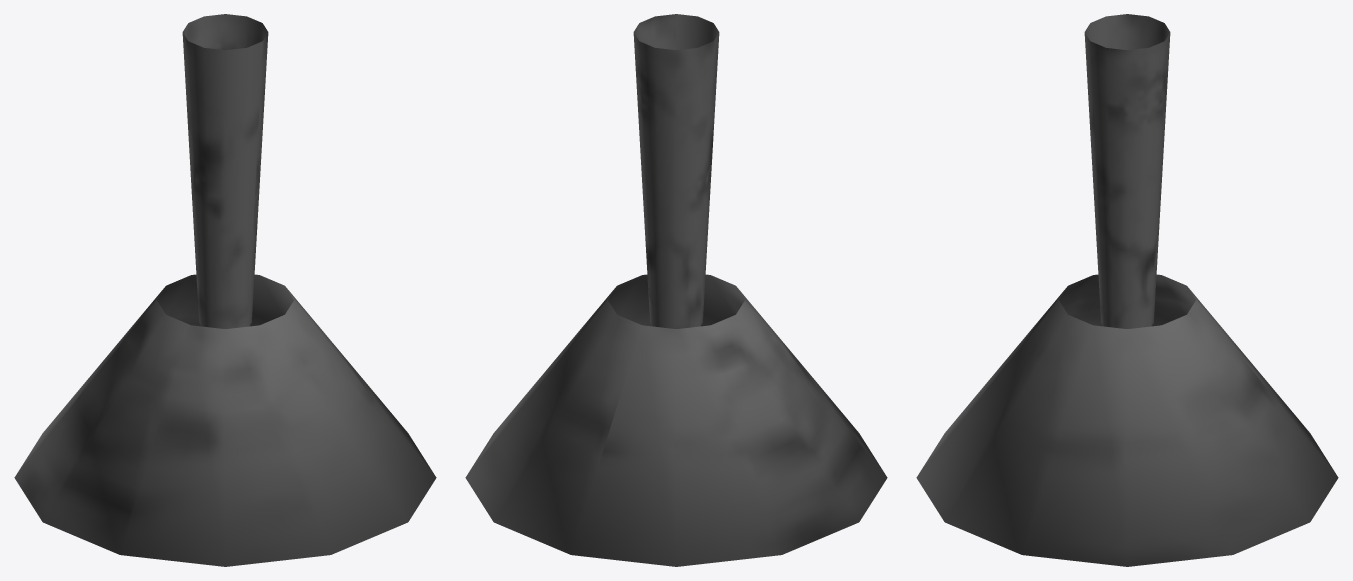
File: PostoGasolinaLuz.fbx
The picture shows the model from 3 angles, left to right: view 1: azimuth 30°, elevation 25°; view 2: azimuth 150°, elevation 25°; view 3: azimuth 270°, elevation 25°; orthographic projection.
Parts seen in each view (by area): view 1: PostoGasolinaLuz; view 2: PostoGasolinaLuz; view 3: PostoGasolinaLuz.
Part boxes in pixels (x1,y1,x2,y2): PostoGasolinaLuz: (14,14,436,566); PostoGasolinaLuz: (465,14,887,566); PostoGasolinaLuz: (916,14,1338,566).
Bounding box in the file's own units: 77.97 × 94.76 × 77.97.
